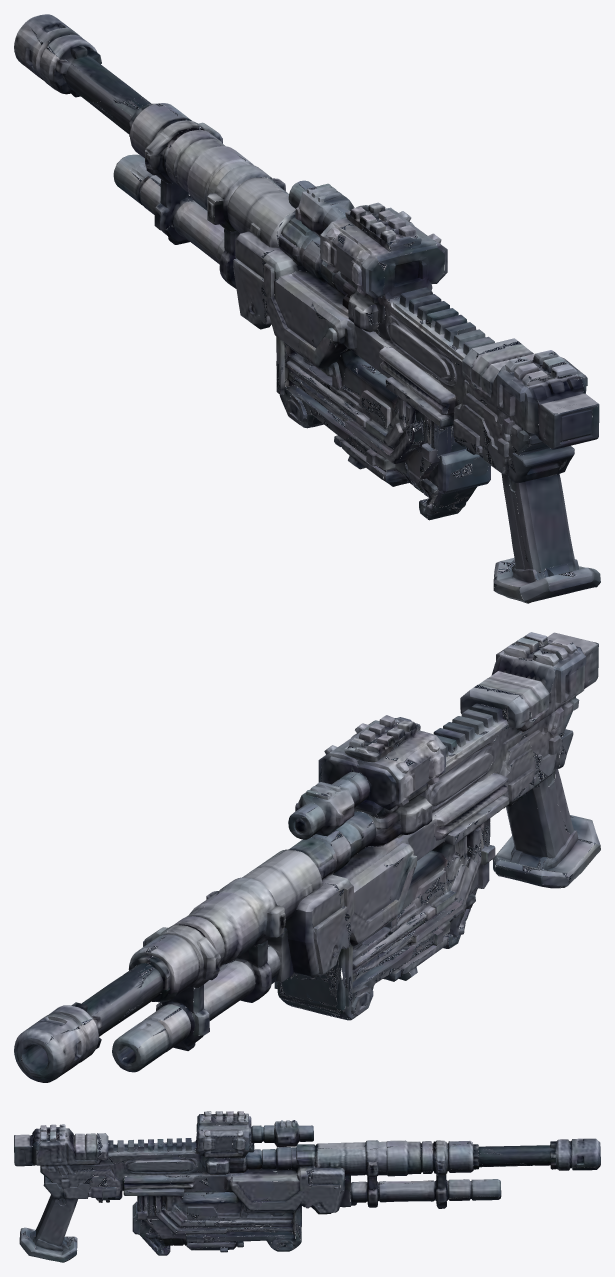
File: HL_WPN_DarkGunSet_02.glb
3 renders of one model, top to bottom at view 1: azimuth 30°, elevation 25°; view 2: azimuth 150°, elevation 25°; view 3: azimuth 270°, elevation 25°, orthographic. The views are drawn at different scales.
Visible parts, largest first — view 1: meshes[0]; view 2: meshes[0]; view 3: meshes[0].
Boxes of the visible parts, x1,y1,x2,y2 form: meshes[0]: (14, 14, 600, 603); meshes[0]: (14, 632, 600, 1082); meshes[0]: (14, 1111, 600, 1262).
Size of the model in its own units: 0.0547 by 0.149 by 0.5688.
1 material, 1 textured.
